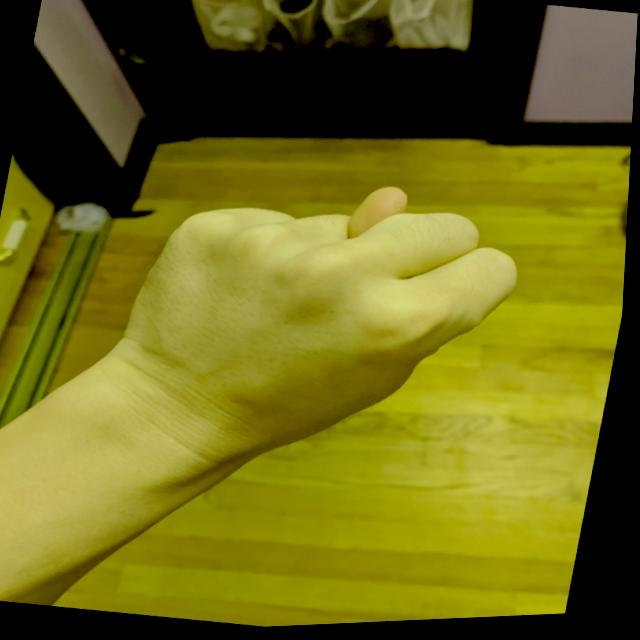N: (104, 144, 545, 502)
